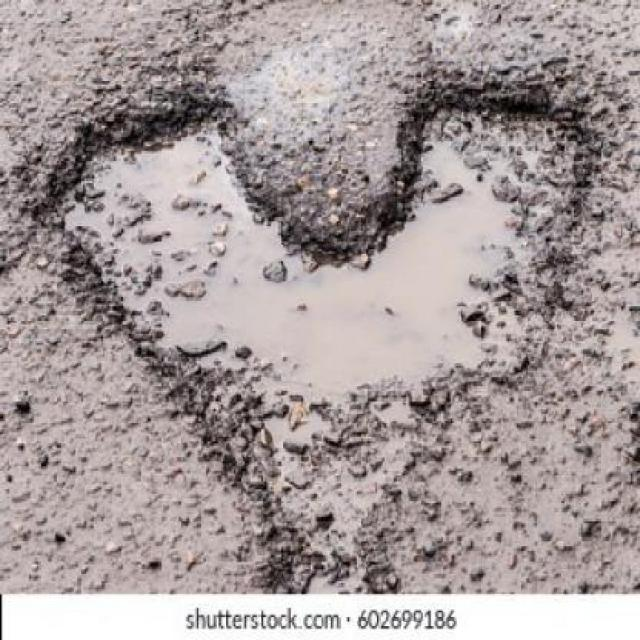Pothole: (34, 94, 606, 555)
